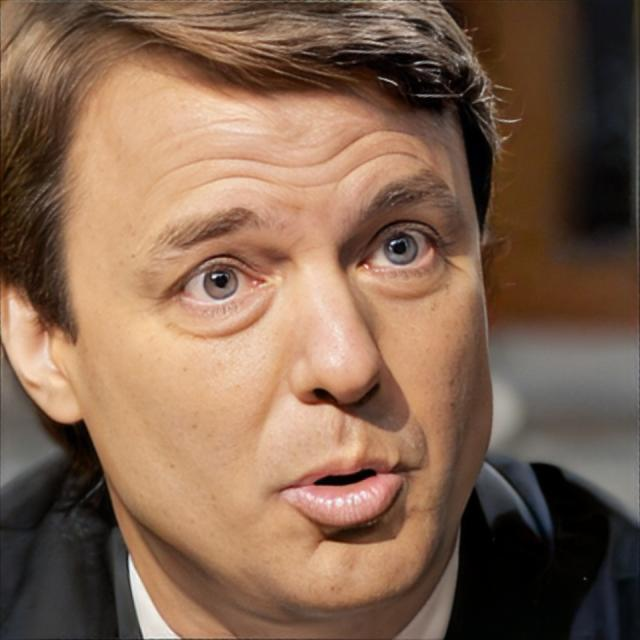surprise: (59, 31, 497, 620)
